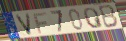0: (68, 9, 84, 31)
7: (49, 9, 65, 33)
B: (98, 4, 119, 29)
F: (32, 12, 48, 35)
Q: (83, 7, 105, 29)
V: (14, 12, 33, 36)
